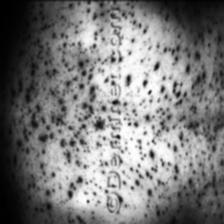Toxin: (122, 0, 224, 224), (23, 0, 105, 224)
